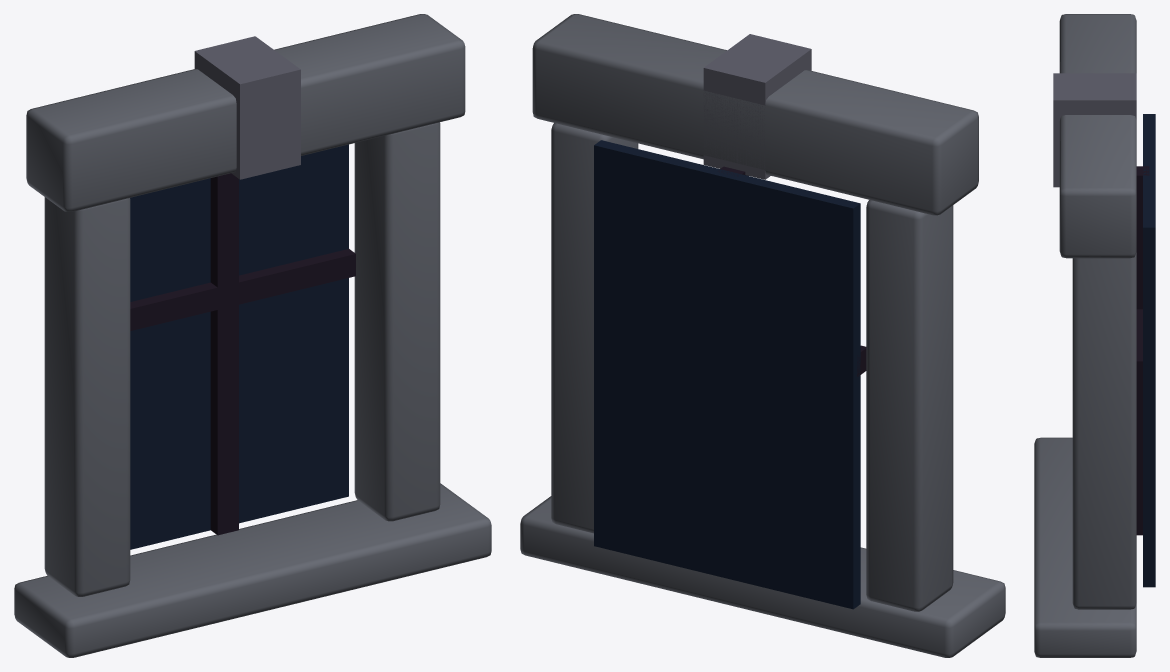
File: kit_stone_window_shut.glb
3 renders of one model, left to right at view 1: azimuth 30°, elevation 25°; view 2: azimuth 150°, elevation 25°; view 3: azimuth 270°, elevation 25°, orthographic. The views are drawn at different scales.
Parts seen in each view (by area): view 1: kit_stone_window_shut; view 2: kit_stone_window_shut; view 3: kit_stone_window_shut.
Part boxes in pixels (bbox=[...]): kit_stone_window_shut: bbox=[14, 14, 491, 657]; kit_stone_window_shut: bbox=[520, 14, 1005, 657]; kit_stone_window_shut: bbox=[1034, 14, 1155, 657].
Size of the model in its own units: 0.7 by 0.825 by 0.19.
